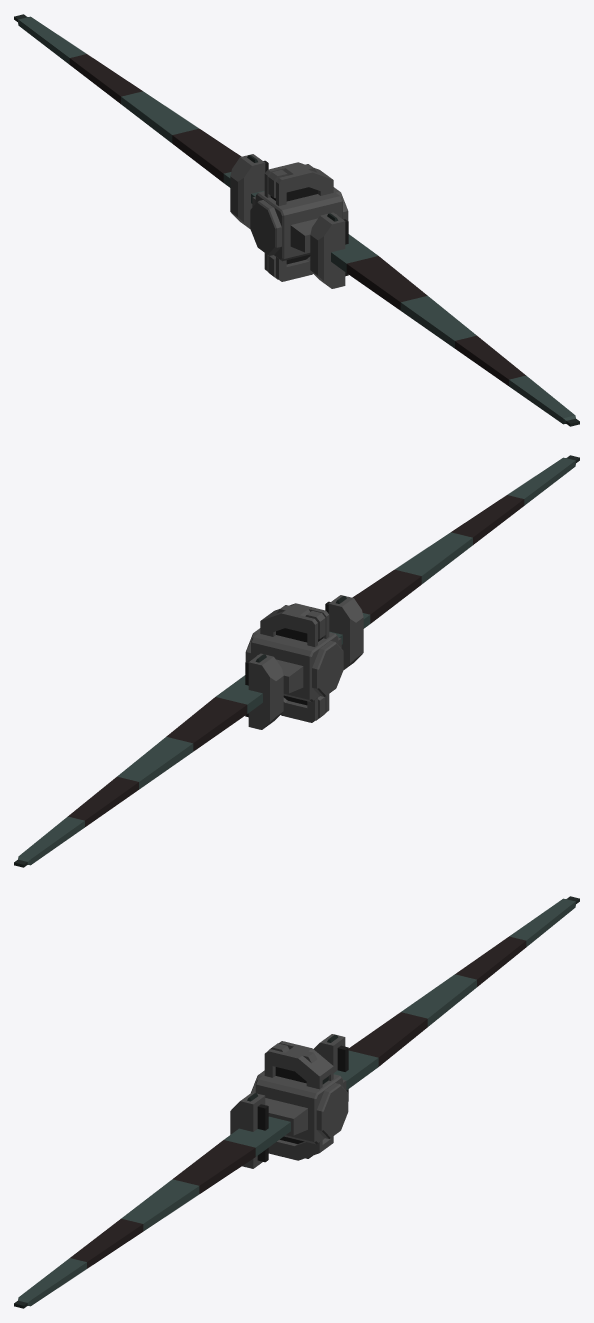
Rendered from solararray2.gltf.
The picture shows the model from 3 angles, top to bottom: view 1: azimuth 30°, elevation 25°; view 2: azimuth 150°, elevation 25°; view 3: azimuth 330°, elevation 25°; orthographic projection.
Visible parts, largest first — view 1: Cube.008; view 2: Cube.008; view 3: Cube.008.
Part boxes in pixels (x1,y1,x2,y2): Cube.008: (14, 14, 579, 426); Cube.008: (14, 455, 579, 867); Cube.008: (14, 896, 579, 1308).
Size of the model in its own units: 3 by 4.05 by 39.48.
Materials: 1 (1 with a texture image).
